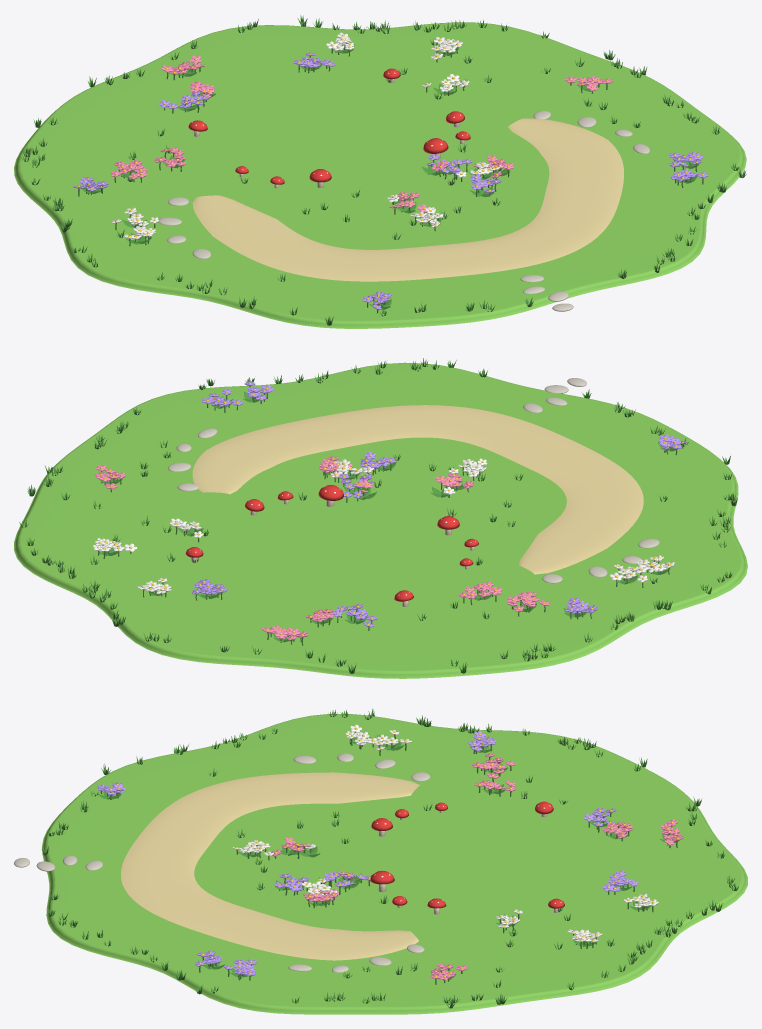
Rendered from HoneyGlade.obj.
3 views of the same model, one above another, from view 1: azimuth 30°, elevation 25°; view 2: azimuth 150°, elevation 25°; view 3: azimuth 270°, elevation 25° (orthographic). The views are drawn at different scales.
Parts seen in each view (by area): view 1: Lawn, Sand, Stems, FlowerLilac, FlowerPink, FlowerWhite, Stones, Caps, FlowerMiddles; view 2: Lawn, Sand, Stems, FlowerLilac, FlowerPink, FlowerWhite, Stones, Caps, FlowerMiddles; view 3: Lawn, Sand, Stems, FlowerLilac, FlowerPink, FlowerWhite, Stones, Caps, FlowerMiddles.
Boxes of the visible parts, bbox=[...] form: Lawn: bbox=[14, 22, 746, 328]; Sand: bbox=[192, 118, 623, 281]; Stems: bbox=[21, 15, 746, 325]; FlowerLilac: bbox=[73, 52, 708, 309]; FlowerPink: bbox=[111, 55, 612, 212]; FlowerWhite: bbox=[111, 32, 501, 239]; Stones: bbox=[158, 110, 650, 311]; Caps: bbox=[188, 68, 470, 184]; FlowerMiddles: bbox=[77, 35, 703, 307]; Lawn: bbox=[14, 362, 747, 678]; Sand: bbox=[192, 405, 643, 574]; Stems: bbox=[19, 358, 737, 673]; FlowerLilac: bbox=[192, 381, 687, 627]; FlowerPink: bbox=[95, 456, 549, 640]; FlowerWhite: bbox=[93, 458, 674, 594]; Stones: bbox=[168, 378, 659, 583]; Caps: bbox=[185, 485, 478, 601]; FlowerMiddles: bbox=[97, 382, 683, 638]; Lawn: bbox=[42, 714, 747, 1014]; Sand: bbox=[121, 772, 420, 960]; Stems: bbox=[41, 708, 738, 1008]; FlowerLilac: bbox=[97, 730, 638, 976]; FlowerPink: bbox=[271, 753, 683, 980]; FlowerWhite: bbox=[232, 724, 658, 942]; Stones: bbox=[14, 753, 430, 972]; Caps: bbox=[370, 801, 564, 908]; FlowerMiddles: bbox=[100, 727, 678, 977].
Bounding box in the file's own units: 70.26 × 2.49 × 73.05.
